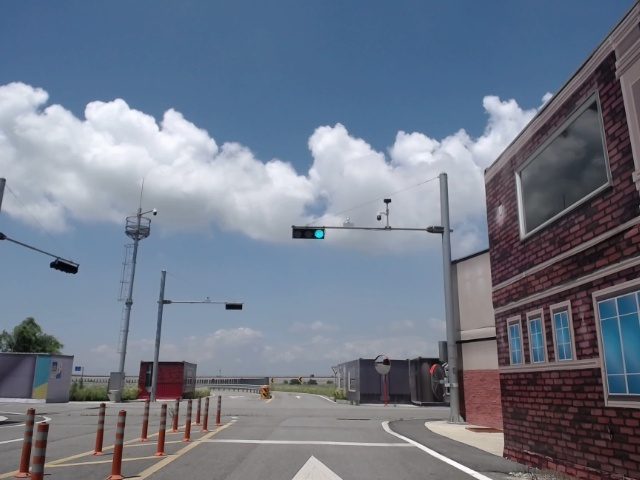green_3: (292, 228, 324, 238)
